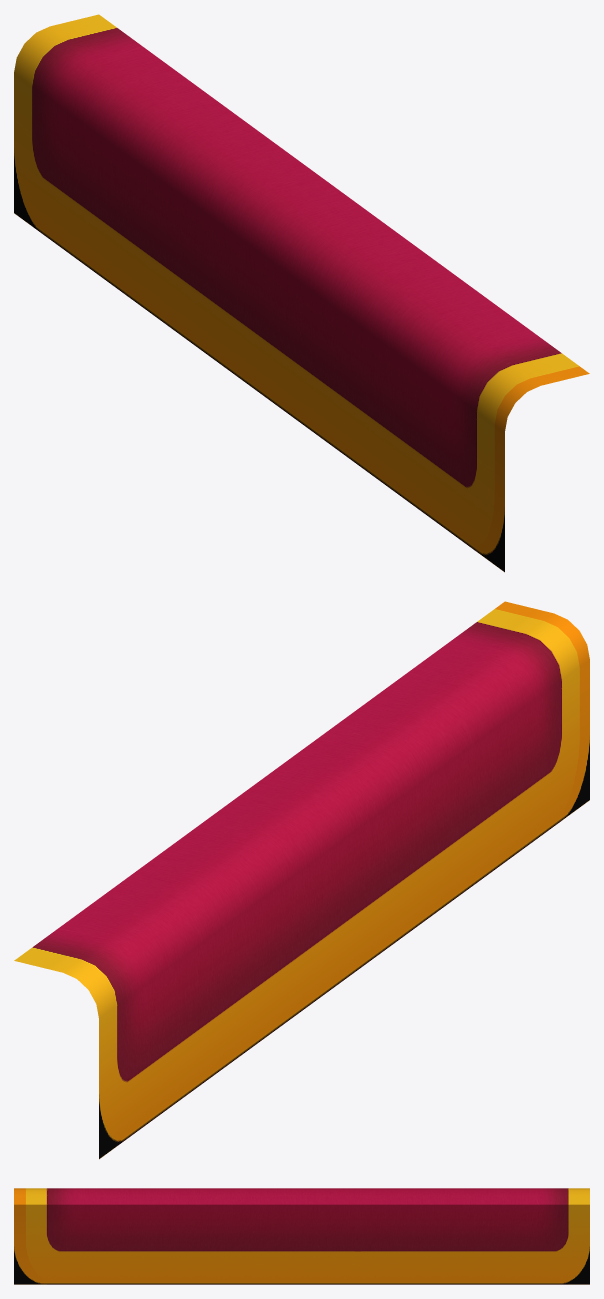
Rendered from EndCarpet.fbx.
3 views of the same model, one above another, from view 1: azimuth 30°, elevation 25°; view 2: azimuth 150°, elevation 25°; view 3: azimuth 270°, elevation 25° (orthographic). The views are drawn at different scales.
Parts seen in each view (by area): view 1: Plane.001; view 2: Plane.001; view 3: Plane.001.
Boxes of the visible parts, x1,y1,x2,y2 form: Plane.001: (14, 14, 589, 572); Plane.001: (14, 601, 589, 1159); Plane.001: (14, 1188, 589, 1284).
Size of the model in its own units: 20 by 40 by 200.
